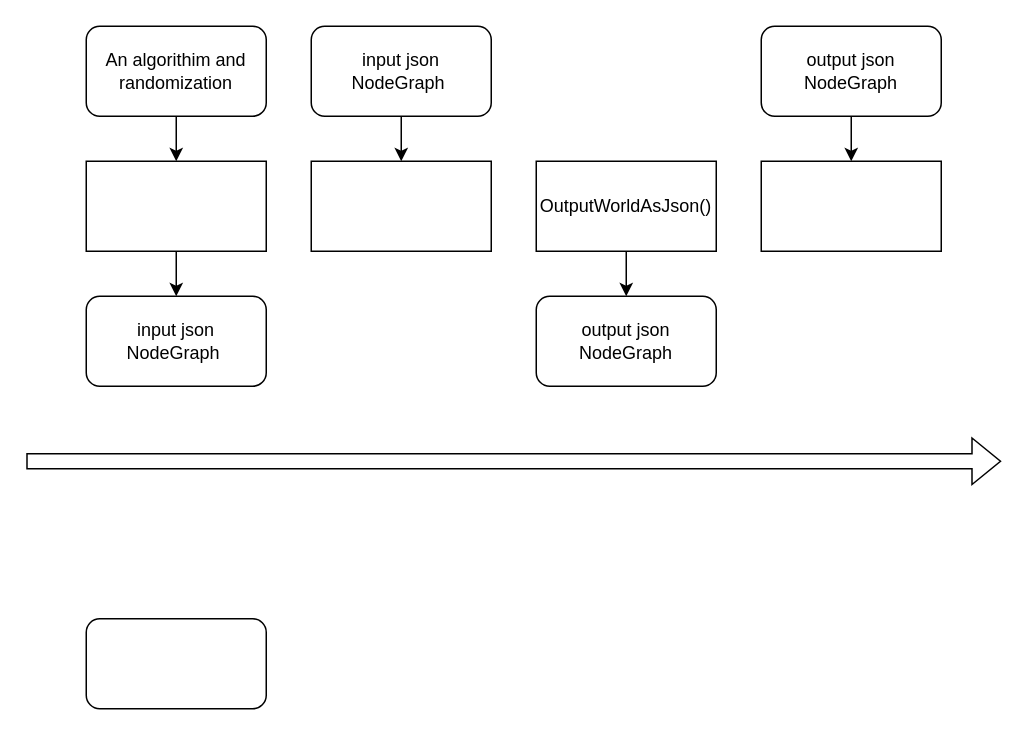
Image size: 1026x735. Some labels were removed from this diagram. Here are the shapes that lost their labels. From the top down, the centre of each, then its label:
At (x=175, y=205): "GenerateWorld()".
At (x=400, y=205): "CreateWorld()".
At (x=850, y=205): "index.html".
